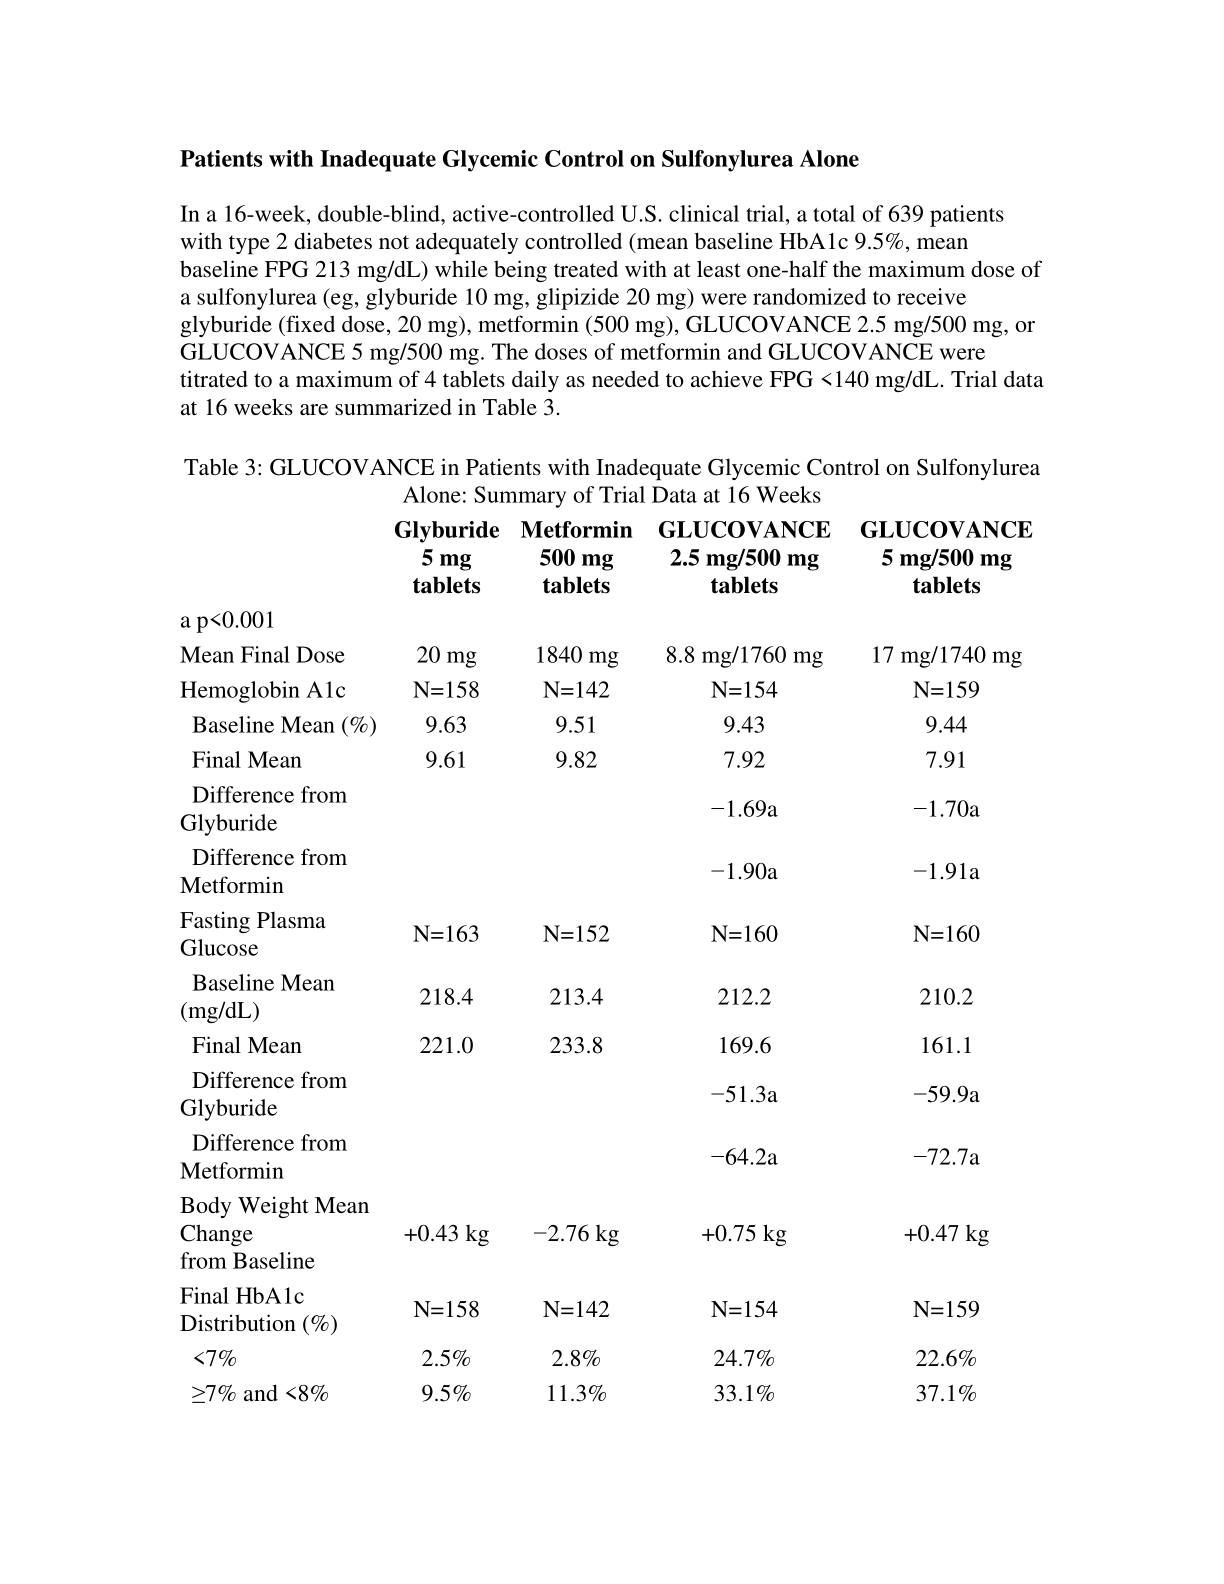nolines: (177, 518, 1034, 1407)
